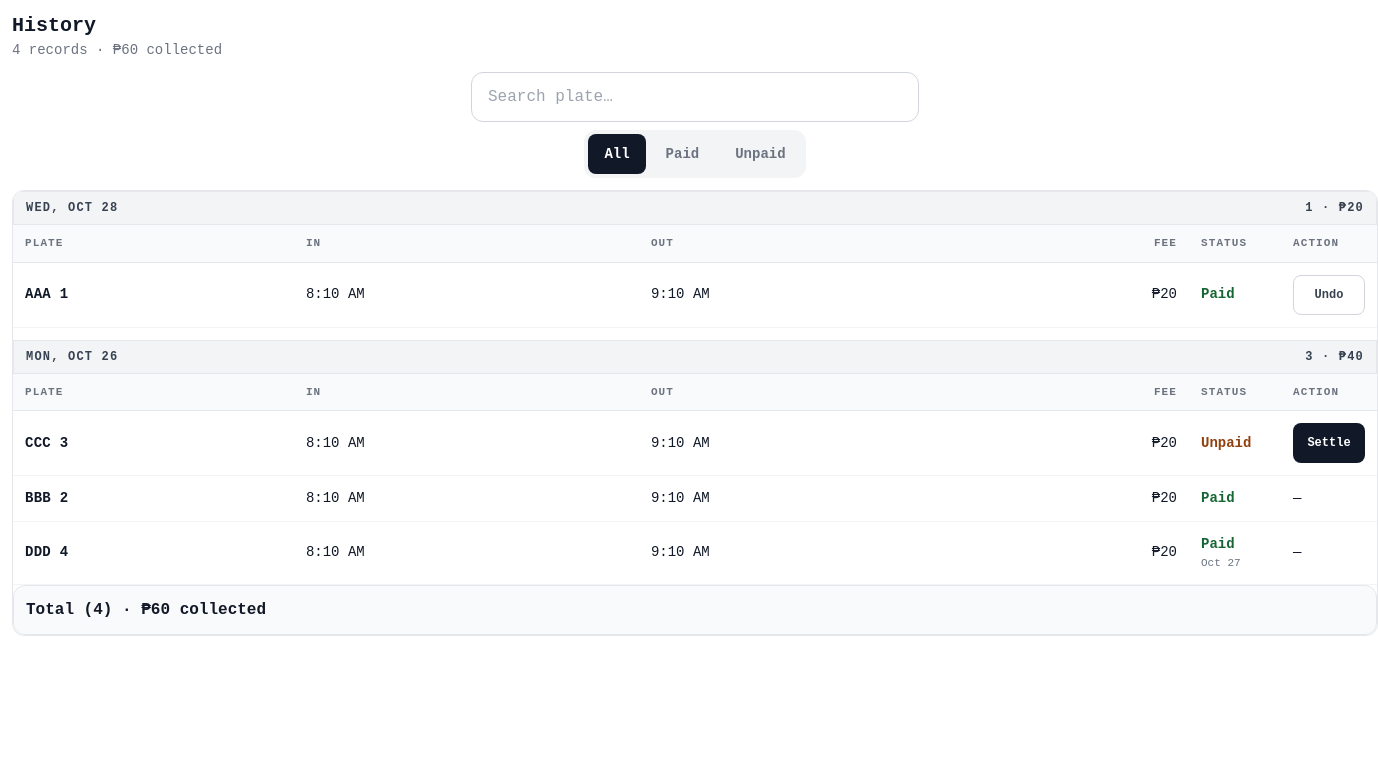
History actions › single tap settles immediately
Click the button "Settle" at [1329, 443], box left=1293, top=423, right=1365, bottom=463
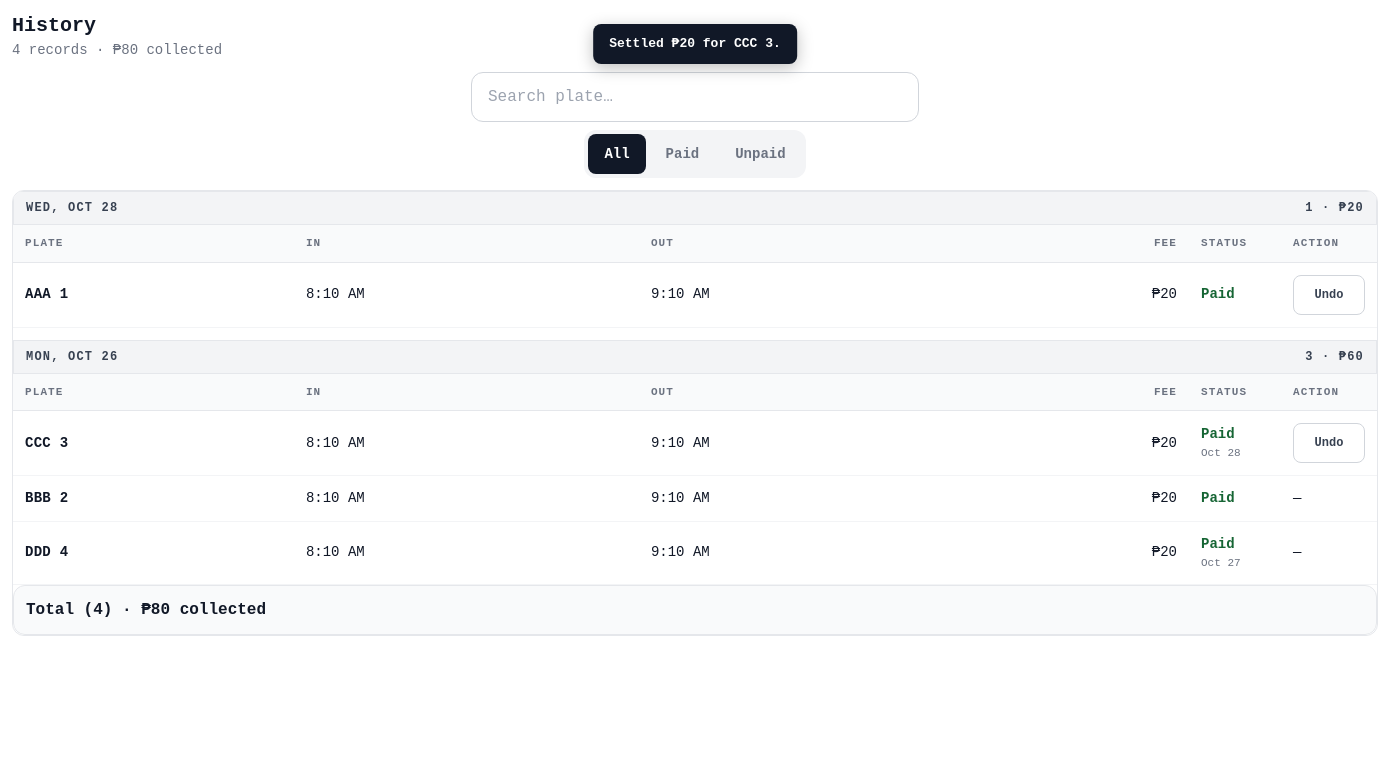
expect the text "Settled ₱20 for CCC 3." is shown: met, box left=593, top=24, right=797, bottom=64
